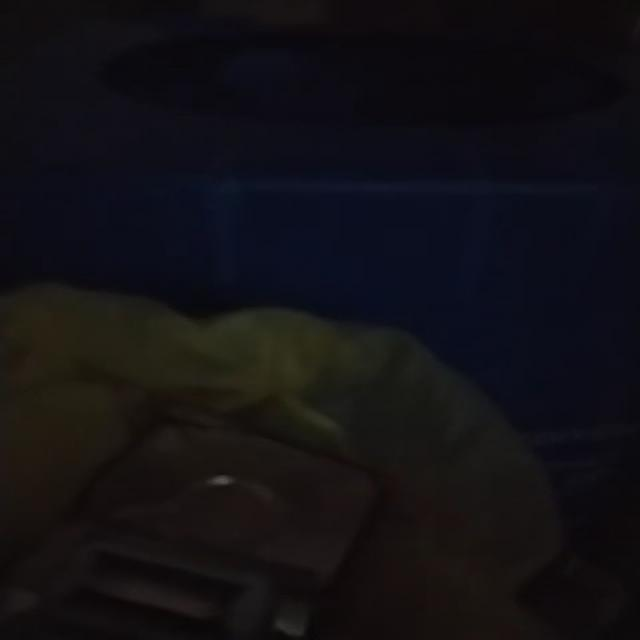bin: (2, 0, 640, 640)
metal: (1, 419, 380, 640)
